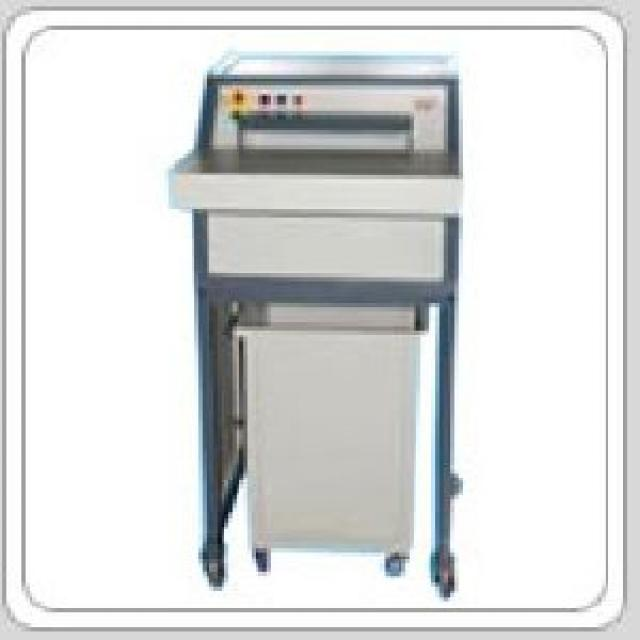palette: (170, 48, 468, 603)
